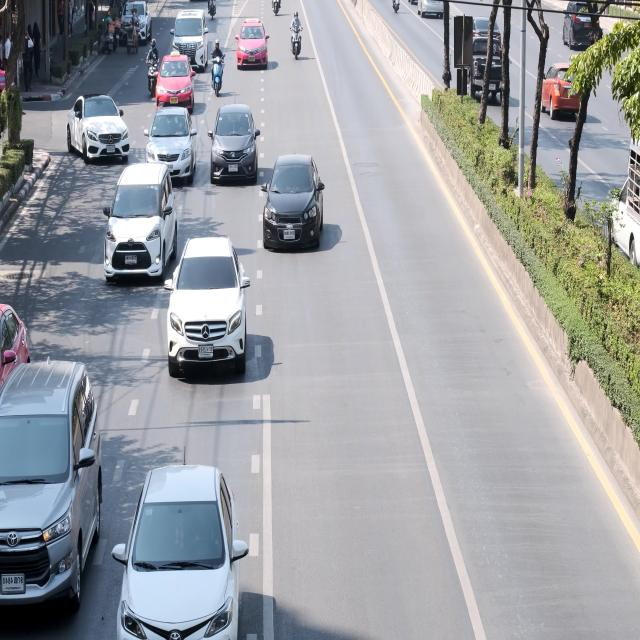cars: (0, 325, 120, 620), (105, 446, 267, 640), (157, 236, 257, 394), (250, 143, 342, 268), (100, 164, 181, 293), (587, 122, 640, 280), (52, 90, 134, 184), (204, 98, 269, 196), (138, 106, 194, 205), (450, 34, 512, 120), (526, 55, 590, 132), (0, 282, 34, 395), (554, 0, 608, 61), (168, 10, 212, 73), (226, 20, 271, 80), (158, 52, 196, 122), (453, 15, 508, 63), (117, 0, 155, 52), (406, 0, 452, 20)
motorcycle: (282, 4, 308, 70), (206, 34, 227, 98), (146, 29, 161, 96), (100, 19, 115, 56), (111, 13, 122, 47), (204, 0, 219, 21), (266, 0, 281, 17), (388, 0, 401, 18)
